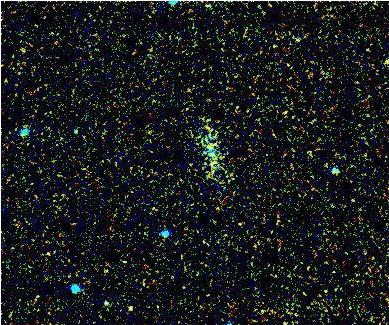star: (111, 296, 141, 325)
